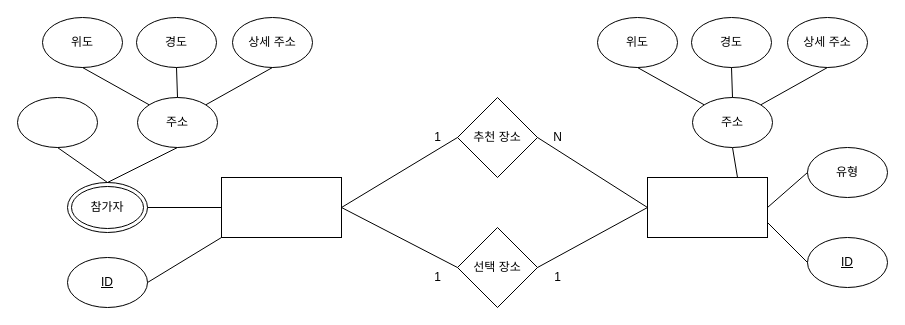
The diagram is 905 pixels wide and 325 high, and some of its shapes have lost their labels. Here are the shapes that lost their labels. From the top down, the centre of each, then its label:
the point at 57,122: name
the point at 281,207: Meeting
the point at 707,207: Location
